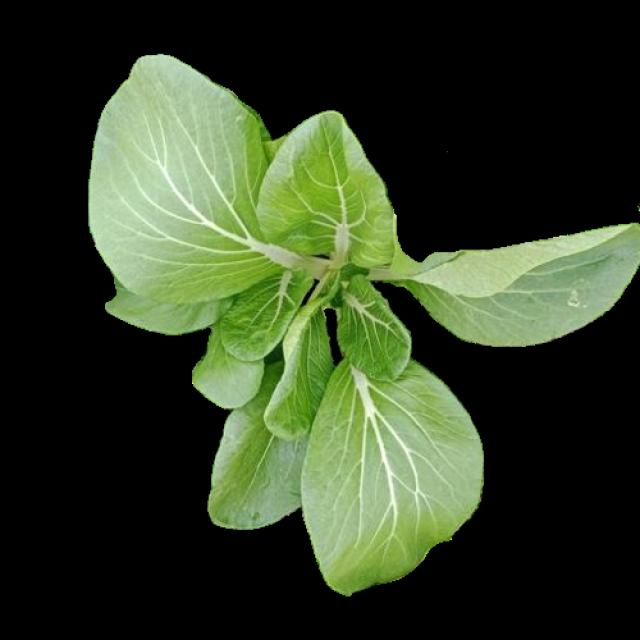healthy: (84, 53, 635, 592)
mature: (87, 55, 637, 594)
